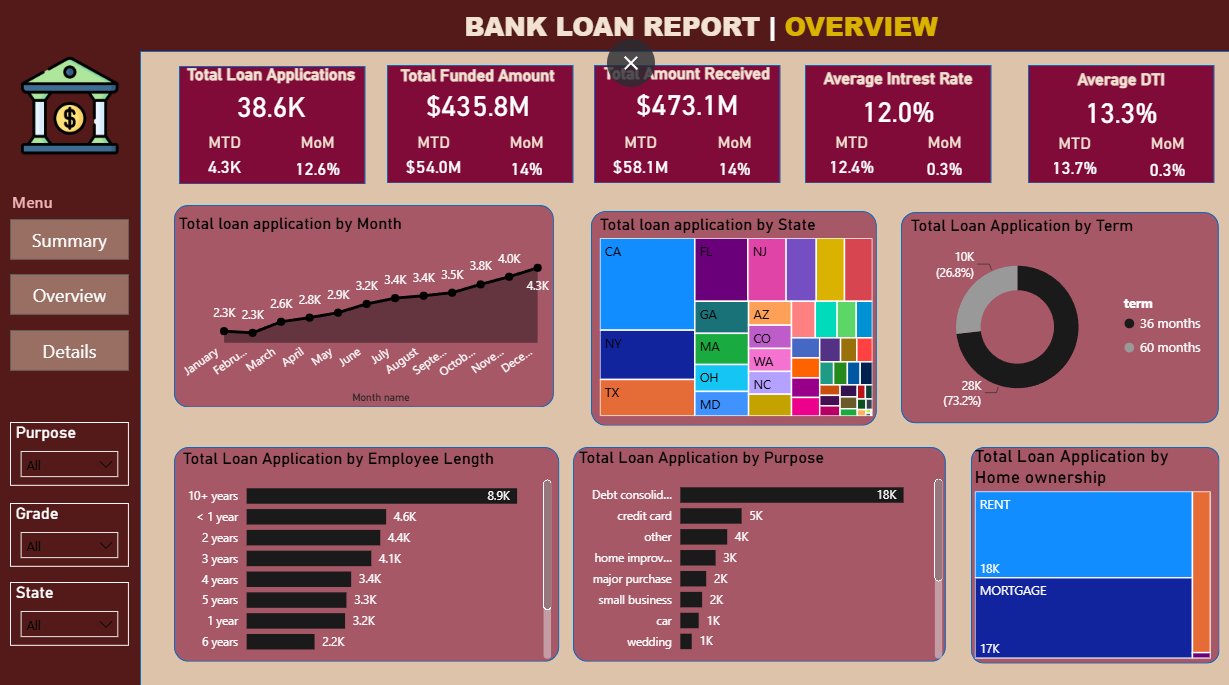

This screenshot's page, from the dashboard's own definition file:
{"tool":"powerbi","page":{"name":"Page 1","canvas":[1280,720],"ordinal":0},"visuals":[{"type":"group","id":"g1","title":"BG","box":[0,0,1280,719.8],"z":0},{"type":"shape","box":[0,0,1280,719.8],"z":0,"group":"g1"},{"type":"card","title":"Total Amount Received","fields":{"Values":["Measures data.Total amount received"]},"box":[618.9,72.7,192.7,61.9],"z":0,"group":"g2"},{"type":"card","title":"Total Loan Applications","fields":{"Values":["Measures data.Total loan application"]},"box":[188,73.1,192.7,64.7],"z":0,"group":"g3"},{"type":"shape","box":[404.6,73.8,192.7,122.5],"z":0,"group":"g10"},{"type":"shape","box":[836.8,73.8,192.7,122.5],"z":0,"group":"g8"},{"type":"shape","box":[1068,73.8,192.7,122.5],"z":0,"group":"g4"},{"type":"shape","box":[188.6,73.9,192.7,122.5],"z":0,"group":"g11"},{"type":"shape","box":[619.4,73.9,192.7,122.5],"z":0,"group":"g9"},{"type":"card","title":"Total Funded Amount","fields":{"Values":["Measures data.Total fund amount"]},"box":[399.8,74.6,198.2,60.6],"z":0,"group":"g5"},{"type":"card","title":"Average Intrest Rate","fields":{"Values":["Measures data.Avg intrest"]},"box":[836.8,77.9,192.7,66.1],"z":0,"group":"g6"},{"type":"card","title":"Average DTI","fields":{"Values":["Measures data.Avg DTI"]},"box":[1068.1,78.6,192.7,66.1],"z":0,"group":"g7"},{"type":"shape","box":[182.9,215.3,540,241],"z":0,"group":"g14"},{"type":"shape","box":[740,215.3,516.1,241],"z":0,"group":"g13"},{"type":"shape","box":[182.9,475.1,1079.8,231.4],"z":0,"group":"g12"},{"type":"shape","box":[148.7,59.2,1131.3,660.6],"z":1000,"group":"g1"},{"type":"group","id":"g2","title":"Group 1","box":[618.9,72.7,193.2,127.8],"z":1000,"group":"g9"},{"type":"group","id":"g3","title":"Group 1","box":[188,73.1,192.7,126.4],"z":1000,"group":"g11"},{"type":"group","id":"g4","title":"Avg DTI","box":[1068,73.8,193.2,127.9],"z":1000},{"type":"group","id":"g5","title":"Group 1","box":[399.8,74.6,198.2,125.8],"z":1000,"group":"g10"},{"type":"group","id":"g6","title":"Group 1","box":[836.8,77.9,192.7,122.5],"z":1000,"group":"g8"},{"type":"group","id":"g7","title":"Group 1","box":[1068.1,78.6,193.1,123],"z":1000,"group":"g4"},{"type":"card","title":"MoM","fields":{"Values":["Measures data.MOM loan"]},"box":[284.3,143.1,96.3,56.4],"z":1000,"group":"g3"},{"type":"card","title":"MoM","fields":{"Values":["Measures data.MoM fund amnt"]},"box":[501,144,96.3,56.4],"z":1000,"group":"g5"},{"type":"card","title":"MoM","fields":{"Values":["Measures data.MoM intrst"]},"box":[933.1,144,96.3,56.4],"z":1000,"group":"g6"},{"type":"card","title":"MoM","fields":{"Values":["Measures data.MoM received amnt"]},"box":[715.7,144.1,96.3,56.4],"z":1000,"group":"g2"},{"type":"card","title":"MoM","fields":{"Values":["Measures data.MoM TDI"]},"box":[1164.4,144.7,96.3,56.4],"z":1000,"group":"g7"},{"type":"donutChart","title":"Total loan application by Bad loan","fields":{"Y":["Measures data.Total loan application"],"Category":["financial_loan.loan G/B"]},"box":[760.5,218.7,324.7,237.5],"z":1000,"group":"g13"},{"type":"multiRowCard","fields":{"Values":["Measures data.Total fund amount"]},"box":[512.7,246.1,176,54.7],"z":1000,"group":"g14"},{"type":"tableEx","title":"LOAN STATUS","fields":{"Values":["financial_loan.loan_status","Measures data.Total loan application","Measures data.Total fund amount","Measures data.Total amount received","Measures data.MTD Fund amnt","Measures data.MTD amnt received","Measures data.Avg intrest","Measures data.Avg DTI"]},"box":[190.2,478.6,1072.5,224.1],"z":1000,"group":"g12"},{"type":"group","id":"g8","title":"Avg intrst","box":[836.8,73.8,192.7,126.6],"z":2000},{"type":"card","title":"MTD","fields":{"Values":["Measures data.MTD Loan"]},"box":[188,143.1,96.3,56.4],"z":2000,"group":"g3"},{"type":"card","title":"MTD","fields":{"Values":["Measures data.MTD Fund amnt"]},"box":[404.6,144,96.3,56.4],"z":2000,"group":"g5"},{"type":"card","title":"MTD","fields":{"Values":["Measures data.MTD avg intrest"]},"box":[836.8,144,96.3,56.4],"z":2000,"group":"g6"},{"type":"card","title":"MTD","fields":{"Values":["Measures data.MTD amnt received"]},"box":[619.4,144.1,96.3,56.4],"z":2000,"group":"g2"},{"type":"card","title":"MTD","fields":{"Values":["Measures data.MTD avg DTI"]},"box":[1068.1,144.7,96.3,56.4],"z":2000,"group":"g7"},{"type":"multiRowCard","fields":{"Values":["Measures data.Total fund amount"]},"box":[1068.1,251.2,176,54.7],"z":2000,"group":"g13"},{"type":"multiRowCard","fields":{"Values":["Measures data.Total loan application"]},"box":[512.7,305.9,184.6,53],"z":2000,"group":"g14"},{"type":"group","id":"g9","title":"Total R amnt","box":[618.9,72.7,193.2,127.8],"z":3000},{"type":"multiRowCard","fields":{"Values":["Measures data.Total loan application"]},"box":[1068.1,314.4,184.6,53],"z":3000,"group":"g13"},{"type":"multiRowCard","fields":{"Values":["Measures data.Total amount received"]},"box":[512.7,370.8,186.3,56.4],"z":3000,"group":"g14"},{"type":"group","id":"g10","title":"Total F amnt","box":[399.8,73.8,198.2,126.6],"z":4000},{"type":"donutChart","title":"Total loan application by Good loan","fields":{"Y":["Measures data.Total loan application"],"Category":["financial_loan.loan G/B"]},"box":[188.6,218.1,324.8,236.7],"z":4000,"group":"g14"},{"type":"multiRowCard","fields":{"Values":["Measures data.Total amount received"]},"box":[1064.7,375.9,186.3,56.4],"z":4000,"group":"g13"},{"type":"group","id":"g11","title":"Total app","box":[188,73.1,193.3,126.4],"z":5000},{"type":"group","id":"g12","title":"Table","box":[182.9,475.1,1080,232.4],"z":6000},{"type":"image","box":[25.7,58.8,101,113.9],"z":7000},{"type":"actionButton","title":"SUMMARY","box":[14.7,233.2,123,42.2],"z":8000},{"type":"actionButton","title":"overview","box":[14.7,290.2,123,42.2],"z":9000},{"type":"actionButton","title":"details","box":[14.7,347.1,123,42.2],"z":10000},{"type":"textbox","title":"menu","box":[0,200.2,75.3,42.2],"z":11000},{"type":"slicer","title":"Purpose","fields":{"Values":["financial_loan.purpose"]},"box":[14.7,442.6,123,66.1],"z":12000},{"type":"slicer","title":"Grade","fields":{"Values":["financial_loan.grade"]},"box":[14.7,527.1,123,66.1],"z":13000},{"type":"slicer","title":"State","fields":{"Values":["financial_loan.address_state"]},"box":[14.7,607.9,123,66.1],"z":14000},{"type":"textbox","title":"Header","box":[450,8.5,512.7,61.5],"z":15000},{"type":"group","id":"g13","title":"Bad Donut","box":[740,215.3,516.1,241],"z":16000},{"type":"group","id":"g14","title":"Good Donut","box":[182.9,215.3,540,241],"z":17000},{"type":"textbox","title":"86.2%","box":[309.3,326.4,82,44.4],"z":18000},{"type":"textbox","title":"13.8%","box":[885.2,326.4,82,44.4],"z":19000}]}

Visuals, with their boxes in screenshot pixels (x1, y1, x2, y2), scaled from the page's 1280x720 canvas onto the 1229x685 screenshot:
"BG" group: 0 0 1228 684
shape: 0 0 1228 684
"Total Amount Received" card: 594 69 779 128
"Total Loan Applications" card: 181 70 366 131
shape: 388 70 574 187
shape: 803 70 988 187
shape: 1025 70 1210 187
shape: 181 70 366 187
shape: 595 70 780 187
"Total Funded Amount" card: 384 71 574 129
"Average Intrest Rate" card: 803 74 988 137
"Average DTI" card: 1026 75 1211 138
shape: 176 205 694 434
shape: 711 205 1206 434
shape: 176 452 1212 672
shape: 143 56 1228 684
"Group 1" group: 594 69 780 191
"Group 1" group: 181 70 366 190
"Avg DTI" group: 1025 70 1211 192
"Group 1" group: 384 71 574 191
"Group 1" group: 803 74 988 191
"Group 1" group: 1026 75 1211 192
"MoM" card: 273 136 365 190
"MoM" card: 481 137 574 191
"MoM" card: 896 137 988 191
"MoM" card: 687 137 780 191
"MoM" card: 1118 138 1210 191
"Total loan application by Bad loan" donutChart: 730 208 1042 434
multiRowCard - Measures data.Total fund amount: 492 234 661 286
"LOAN STATUS" tableEx: 183 455 1212 669
"Avg intrst" group: 803 70 988 191
"MTD" card: 181 136 273 190
"MTD" card: 388 137 481 191
"MTD" card: 803 137 896 191
"MTD" card: 595 137 687 191
"MTD" card: 1026 138 1118 191
multiRowCard - Measures data.Total fund amount: 1026 239 1195 291
multiRowCard - Measures data.Total loan application: 492 291 670 341
"Total R amnt" group: 594 69 780 191
multiRowCard - Measures data.Total loan application: 1026 299 1203 350
multiRowCard - Measures data.Total amount received: 492 353 671 406
"Total F amnt" group: 384 70 574 191
"Total loan application by Good loan" donutChart: 181 207 493 433
multiRowCard - Measures data.Total amount received: 1022 358 1201 411
"Total app" group: 181 70 366 190
"Table" group: 176 452 1213 673
image: 25 56 122 164
"SUMMARY" actionButton: 14 222 132 262
"overview" actionButton: 14 276 132 316
"details" actionButton: 14 330 132 370
"menu" textbox: 0 190 72 231
"Purpose" slicer: 14 421 132 484
"Grade" slicer: 14 501 132 564
"State" slicer: 14 578 132 641
"Header" textbox: 432 8 924 67
"Bad Donut" group: 711 205 1206 434
"Good Donut" group: 176 205 694 434
"86.2%" textbox: 297 311 376 353
"13.8%" textbox: 850 311 929 353
